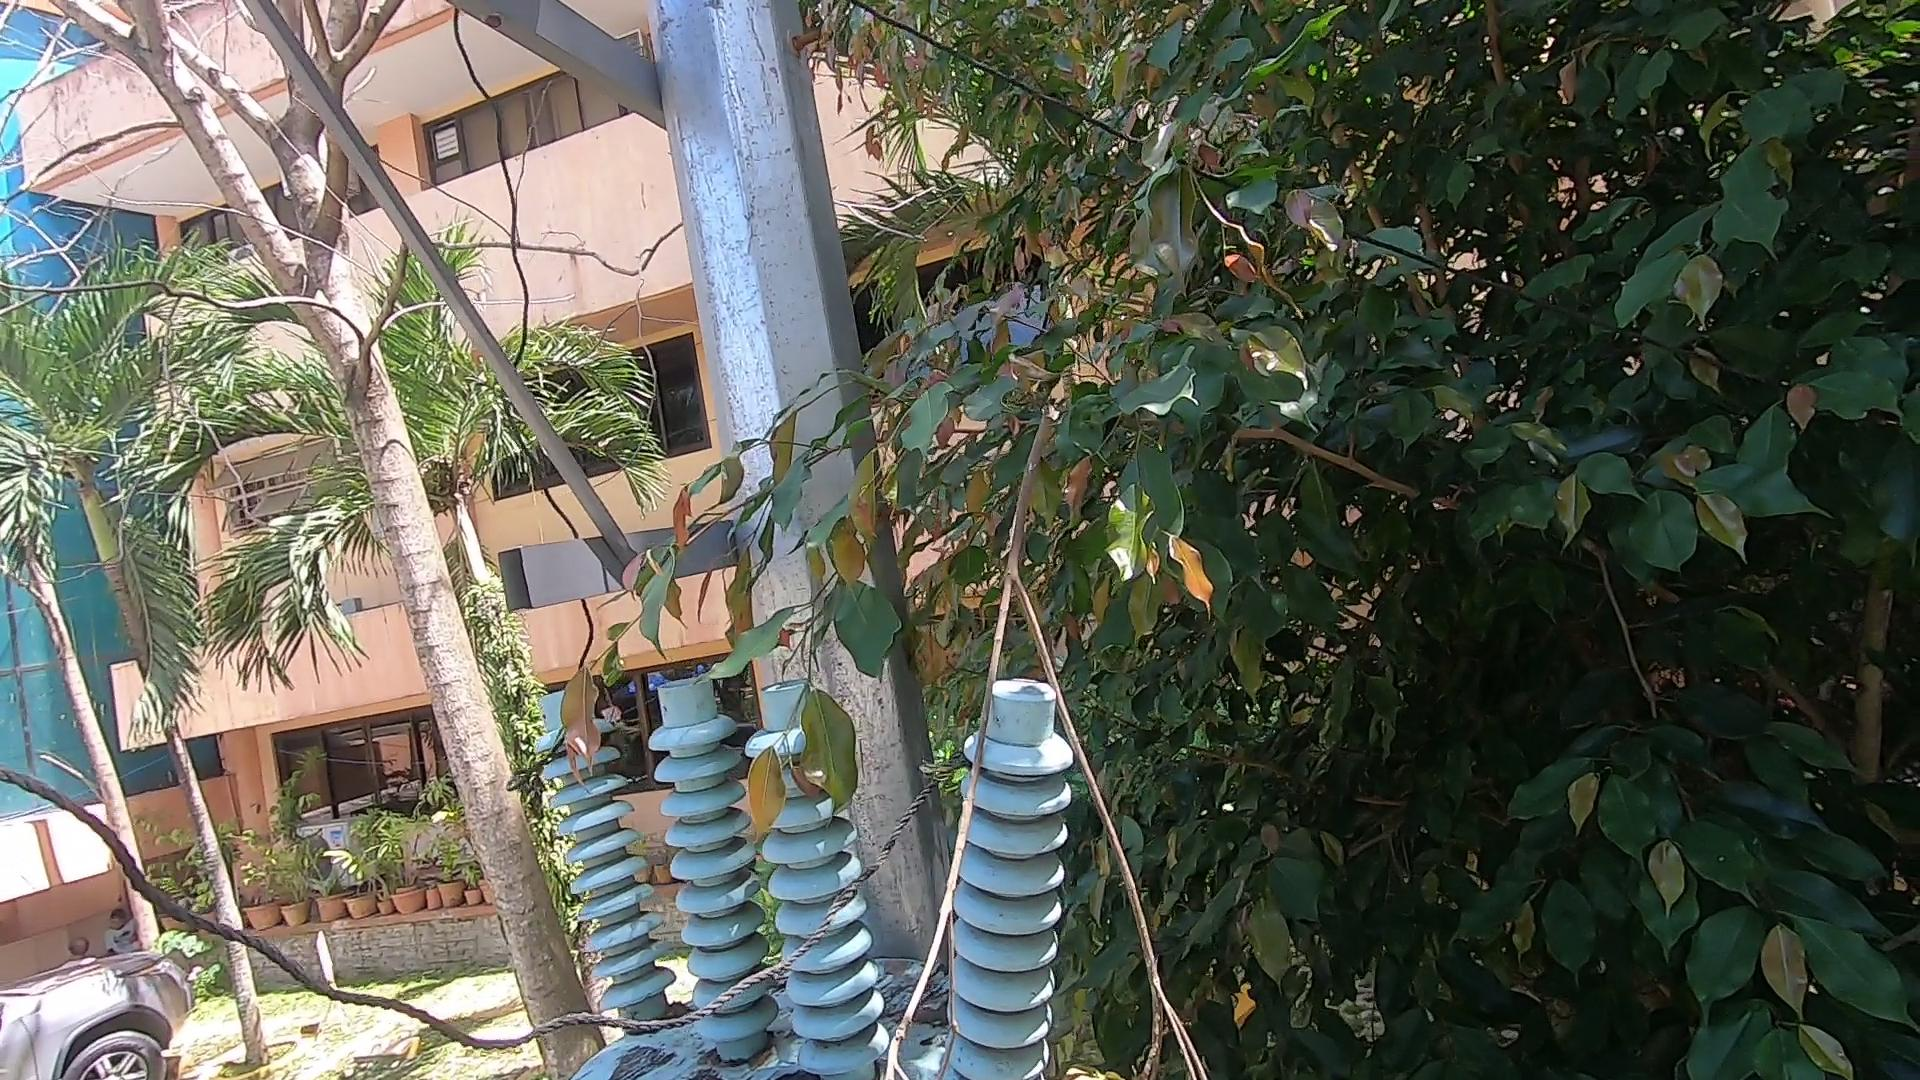tree branch: (866, 397, 1211, 1065)
